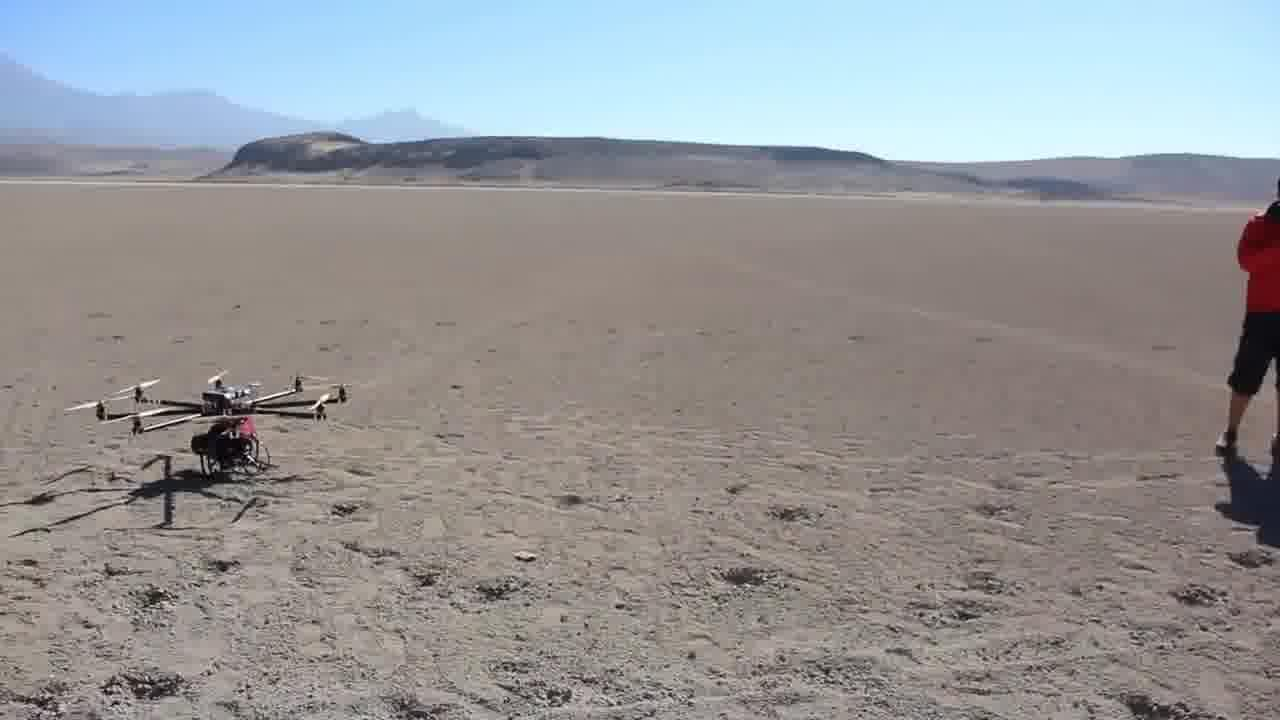drone: (66, 354, 362, 480)
